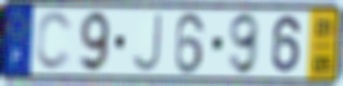6: (173, 11, 208, 77), (270, 14, 303, 76)
9: (225, 12, 262, 77), (77, 9, 112, 75)
C: (33, 9, 75, 73)
J: (129, 11, 164, 74)
